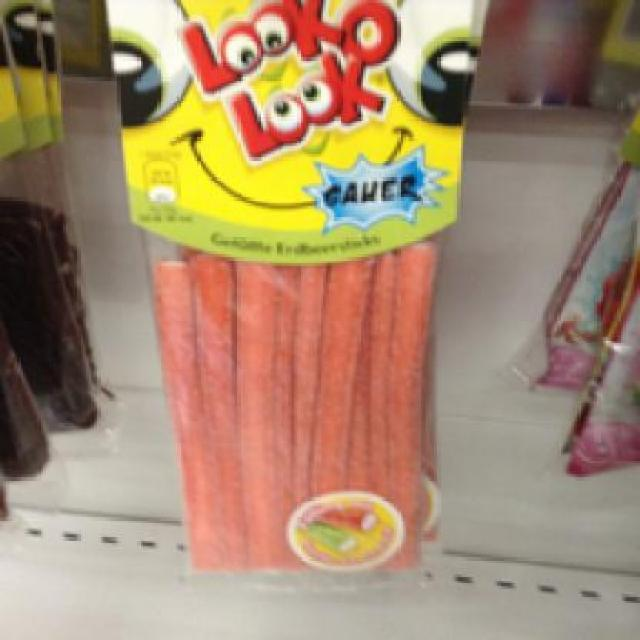Candy: (114, 0, 460, 577)
